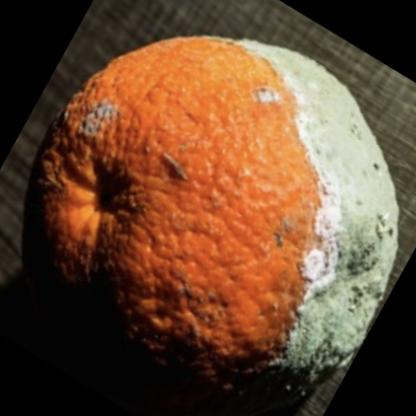rotten: (22, 35, 402, 416)
